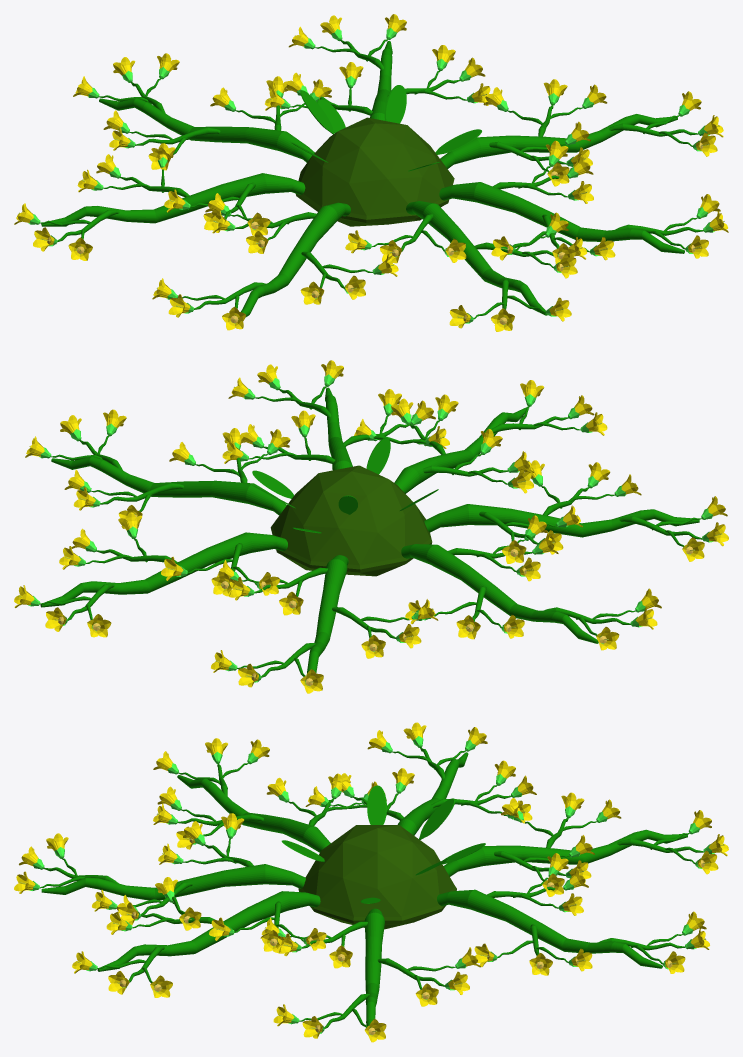
Rendered from yj_ithoughtitwasfinebutno.fbx.
The picture shows the model from 3 angles, top to bottom: view 1: azimuth 30°, elevation 25°; view 2: azimuth 150°, elevation 25°; view 3: azimuth 270°, elevation 25°; orthographic projection. The views are drawn at different scales.
Parts seen in each view (by area): view 1: yj.plant_complete; view 2: yj.plant_complete; view 3: yj.plant_complete.
Part boxes in pixels (x1,y1,x2,y2): yj.plant_complete: [14, 14, 728, 331]; yj.plant_complete: [14, 360, 728, 693]; yj.plant_complete: [14, 722, 728, 1042].
Bounding box in the file's own units: 521 × 76.77 × 514.
